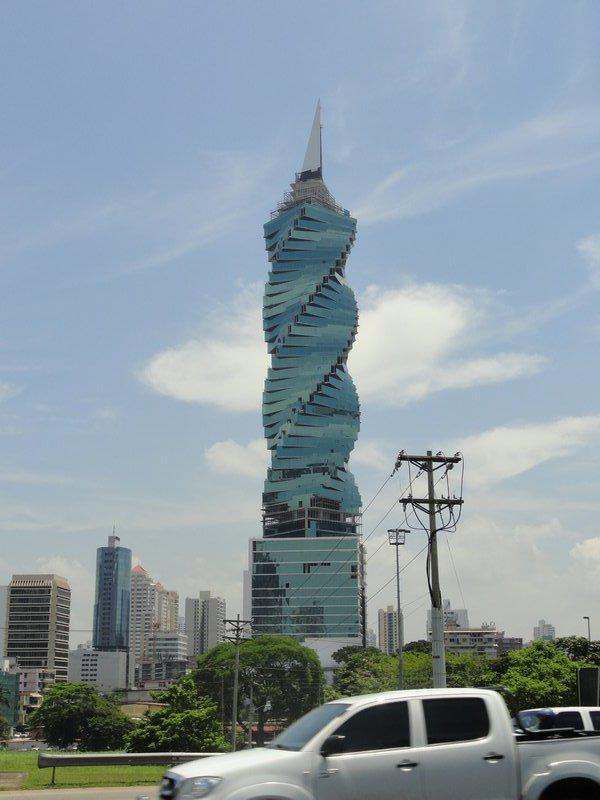affected: (264, 95, 361, 667)
